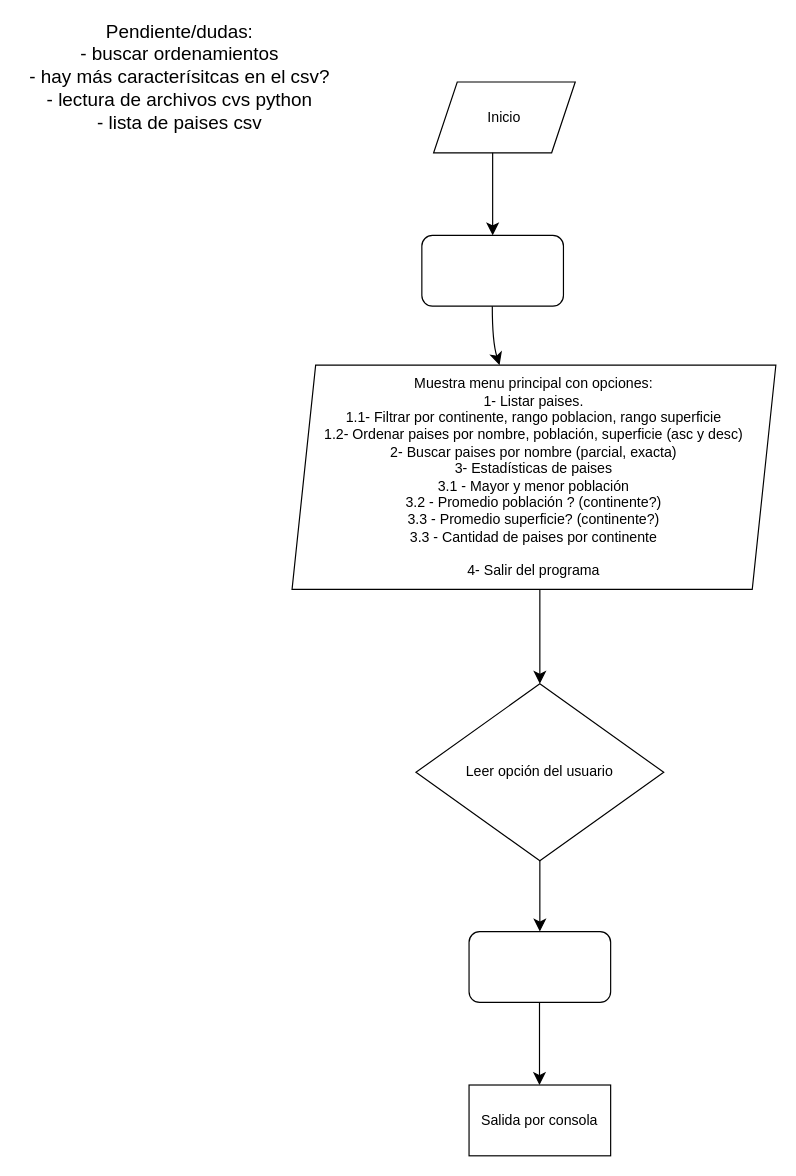
Some shapes in this 796 by 1176 pixel diagram are drawn without their labels. The centre of each missing label's shape, as x and y in pixels:
Leer datos CSV y cargarlos en variable tipo lista "paises[ ]": the point at 492,270
procesa pedido: the point at 539,966
